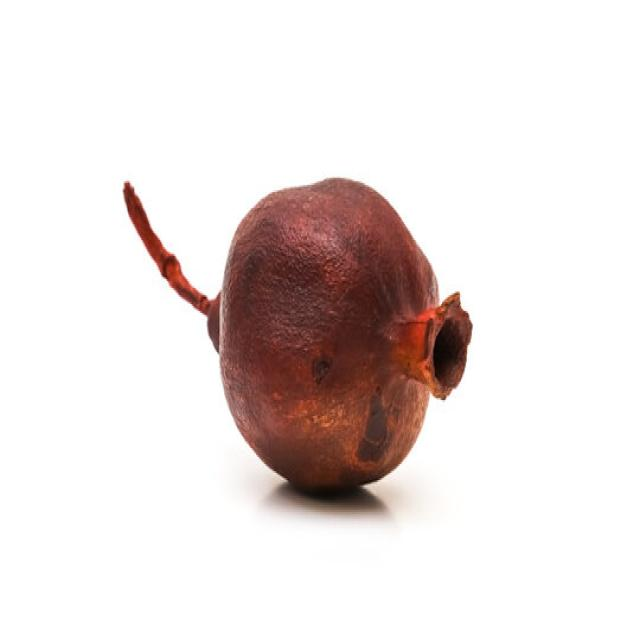Beetroot: (121, 172, 473, 494)
Carrot: (121, 178, 220, 352)
